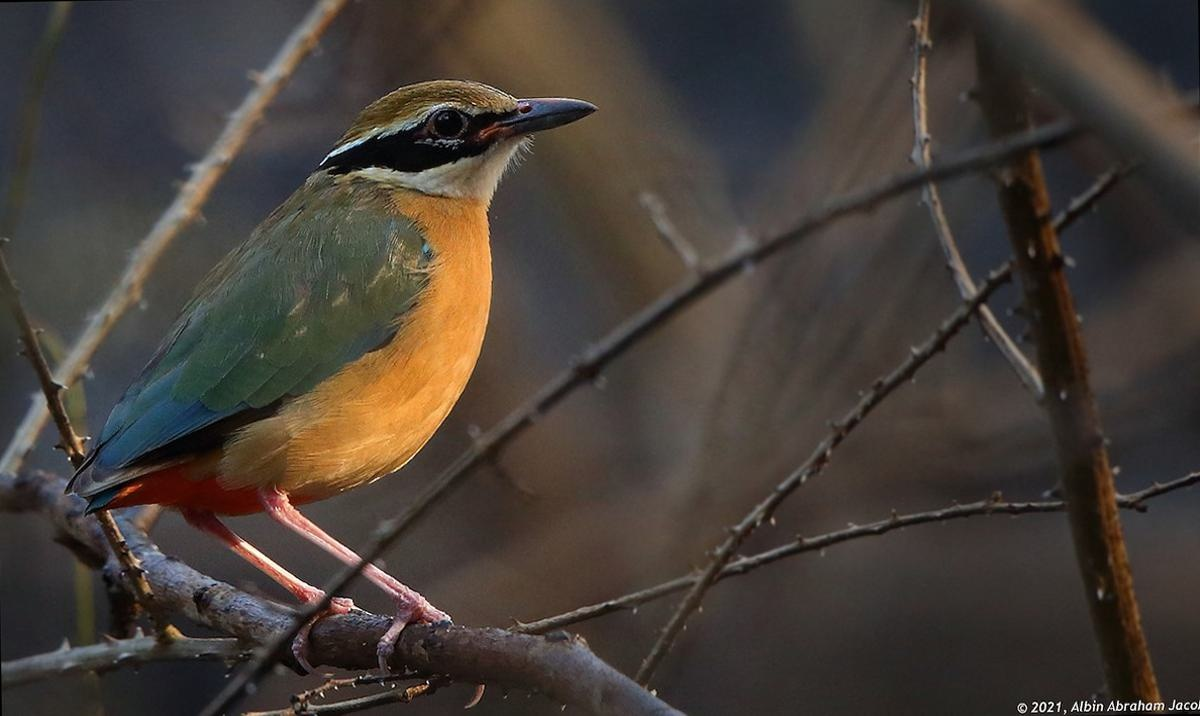pitta: (95, 60, 629, 631)
